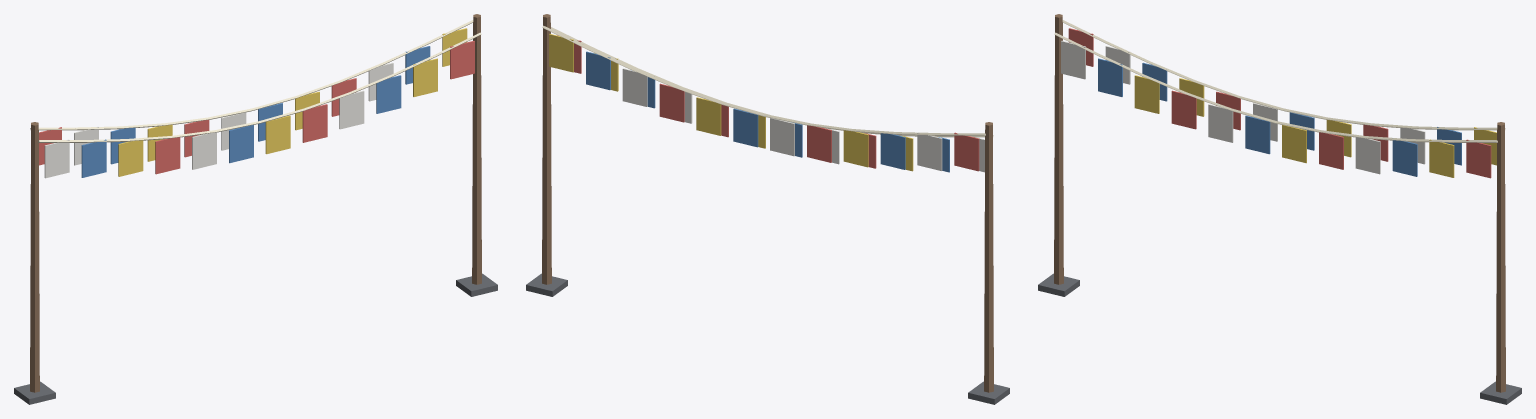
The model's file is hot-air-balloon-festival-bunting-run-5879a446.glb.
3 renders of one model, left to right at view 1: azimuth 30°, elevation 25°; view 2: azimuth 150°, elevation 25°; view 3: azimuth 330°, elevation 25°, orthographic.
Visible parts, largest first — view 1: bunting-run-leather, bunting-run-canvasD, bunting-run-canvasC, bunting-run-canvasB, bunting-run-canvasA, bunting-run-rope, bunting-run-charcoal; view 2: bunting-run-leather, bunting-run-canvasC, bunting-run-canvasA, bunting-run-canvasD, bunting-run-canvasB, bunting-run-rope, bunting-run-charcoal; view 3: bunting-run-leather, bunting-run-canvasA, bunting-run-canvasB, bunting-run-canvasC, bunting-run-canvasD, bunting-run-rope, bunting-run-charcoal.
Boxes of the visible parts, x1,y1,x2,y2 form: bunting-run-leather: (30,14,481,392); bunting-run-canvasD: (118,28,467,176); bunting-run-canvasC: (81,46,430,177); bunting-run-canvasB: (44,62,393,178); bunting-run-canvasA: (39,41,474,174); bunting-run-rope: (30,20,481,142); bunting-run-charcoal: (14,273,497,404); bunting-run-leather: (542,14,993,392); bunting-run-canvasC: (586,51,949,172); bunting-run-canvasA: (557,35,979,171); bunting-run-canvasD: (549,34,913,171); bunting-run-canvasB: (622,68,984,172); bunting-run-rope: (542,25,993,137); bunting-run-charcoal: (526,273,1009,404); bunting-run-leather: (1054,14,1505,392); bunting-run-canvasA: (1068,28,1491,178); bunting-run-canvasB: (1061,40,1425,174); bunting-run-canvasC: (1098,58,1461,176); bunting-run-canvasD: (1134,75,1496,177); bunting-run-rope: (1054,20,1505,142); bunting-run-charcoal: (1038,273,1521,404).
Size of the model in its own units: 4.24 by 2.36 by 0.2402.
